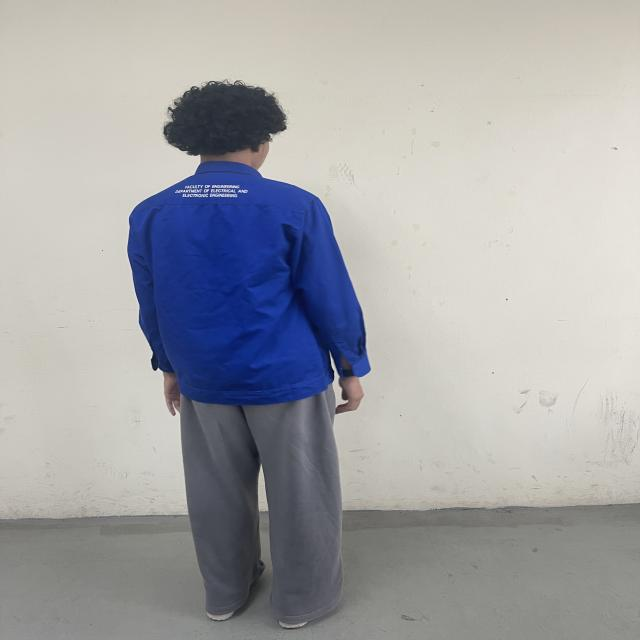person_with_labcoat: (128, 80, 370, 628)
